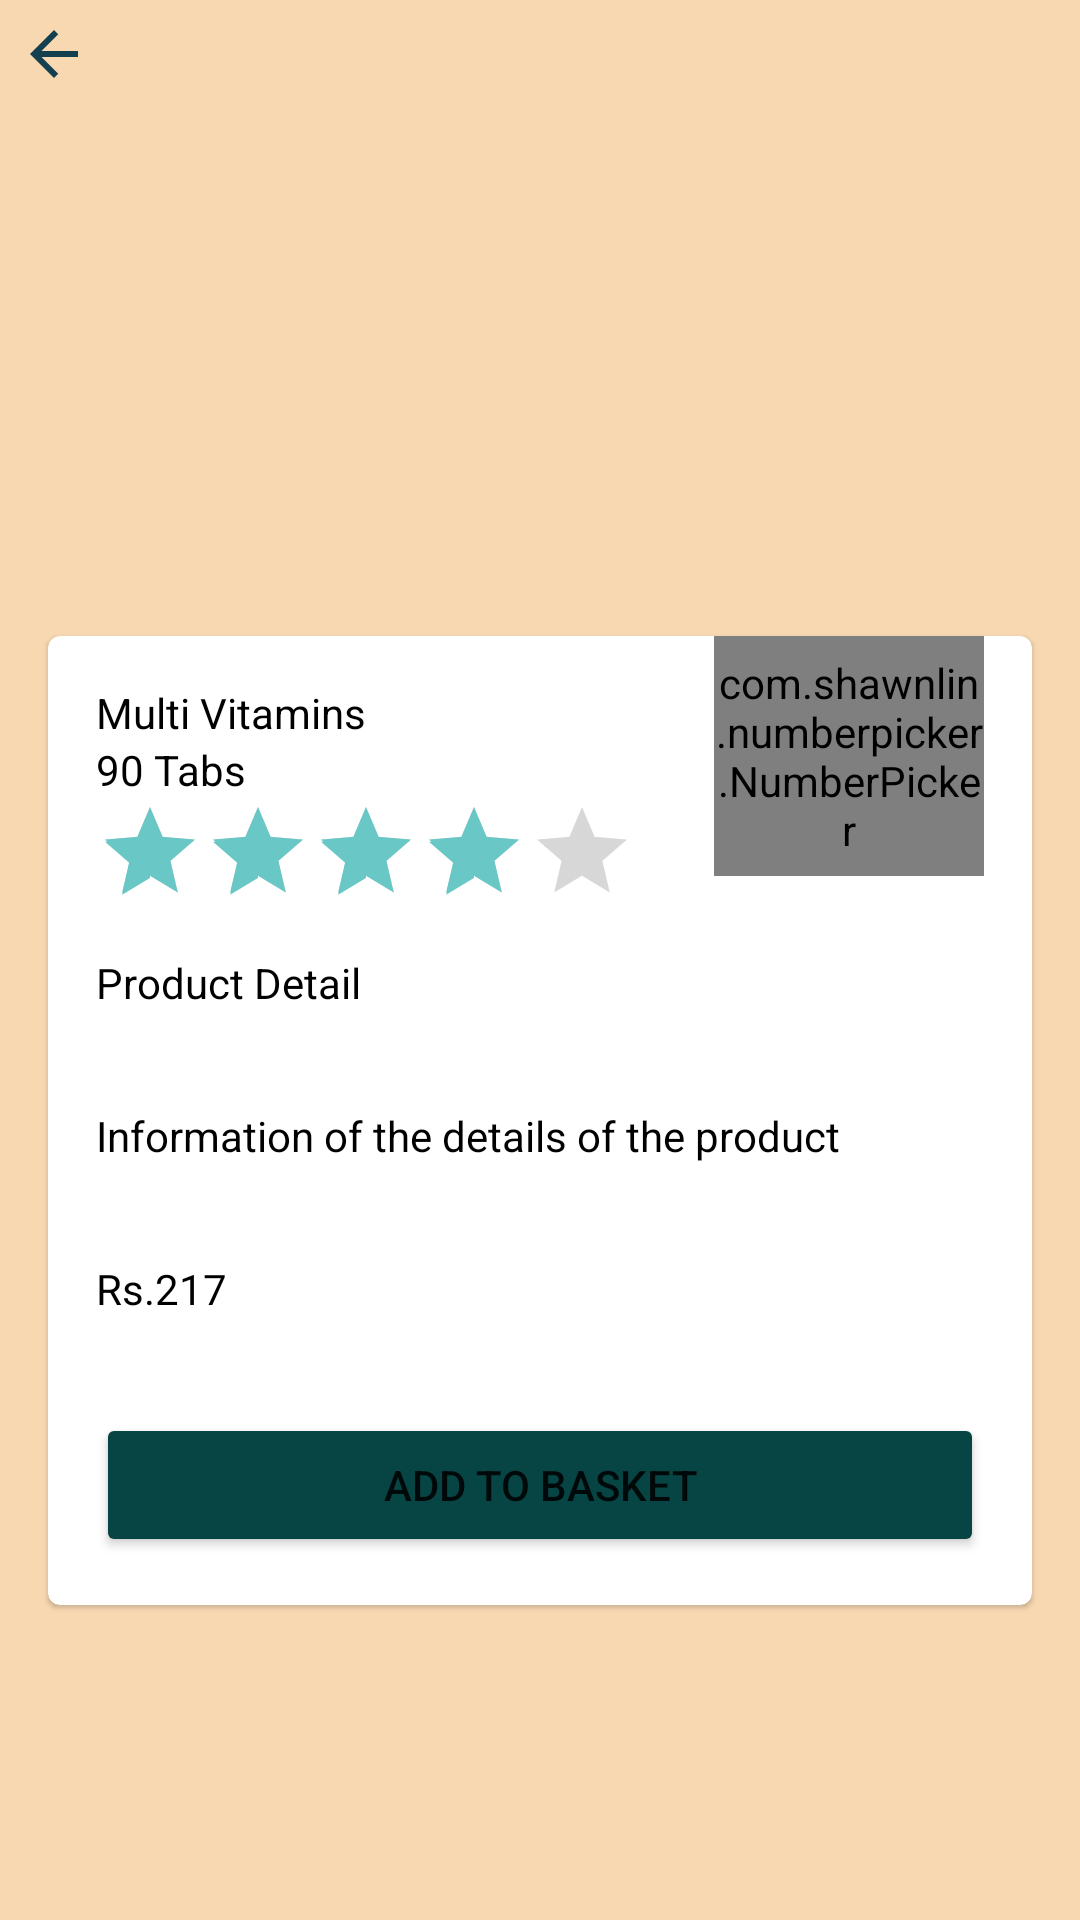

Icons on this 1080px×1920px Android screen, each with the point to tap as (x=x, y=y):
arrow back: (x=54, y=54)
